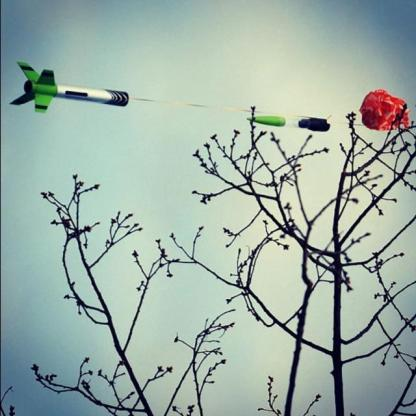MIL_TBM: (9, 57, 139, 114), (53, 82, 134, 108)
